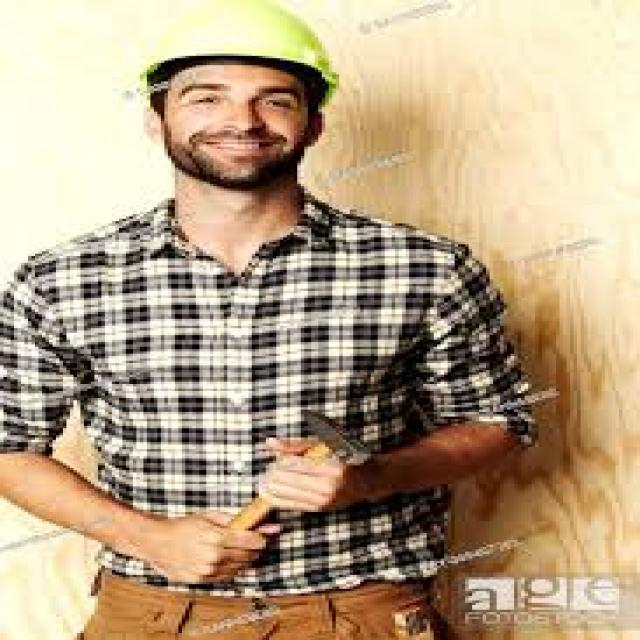hammer: (168, 401, 374, 576)
